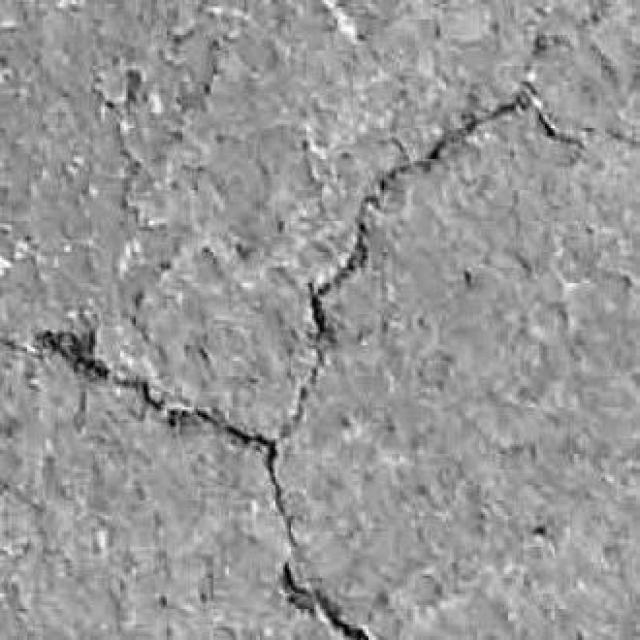crack: (282, 88, 531, 436), (176, 405, 370, 638), (0, 330, 275, 455), (282, 563, 372, 639), (522, 80, 585, 151)
